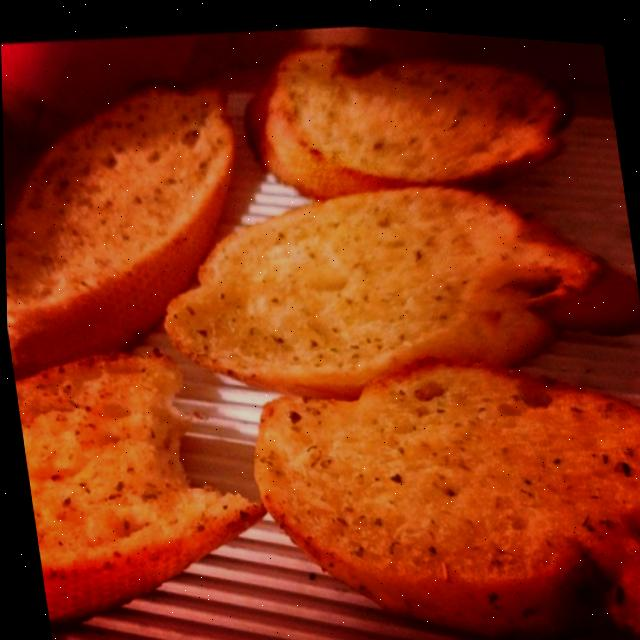面包点心: (4, 2, 640, 640)
